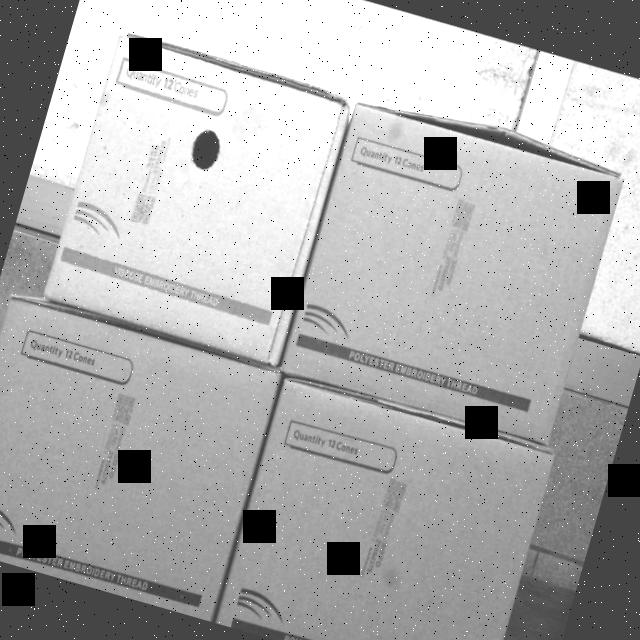box: (280, 98, 624, 450), (37, 21, 356, 374), (0, 289, 287, 622), (215, 376, 558, 640)
